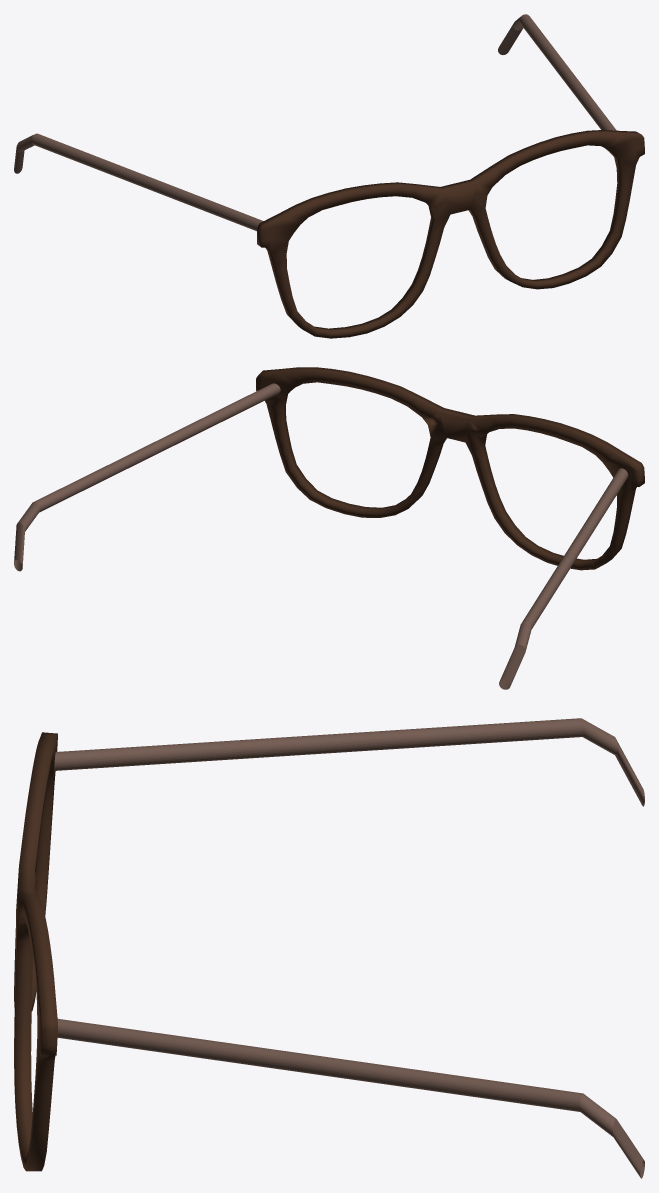
The model's file is Dave_Brille1.fbx.
3 views of the same model, one above another, from view 1: azimuth 30°, elevation 25°; view 2: azimuth 150°, elevation 25°; view 3: azimuth 270°, elevation 25° (orthographic). The views are drawn at different scales.
Visible parts, largest first — view 1: Brille1, Brillen-gestell; view 2: Brille1, Brillen-gestell; view 3: Brillen-gestell, Brille1.
Part boxes in pixels (<box>): Brille1: <box>257,130,644,338</box>; Brillen-gestell: <box>14,14,616,231</box>; Brille1: <box>256,367,644,570</box>; Brillen-gestell: <box>14,383,628,689</box>; Brillen-gestell: <box>54,718,644,1178</box>; Brille1: <box>14,732,57,1171</box>.
Bounding box in the file's own units: 215 × 57.52 × 147.
